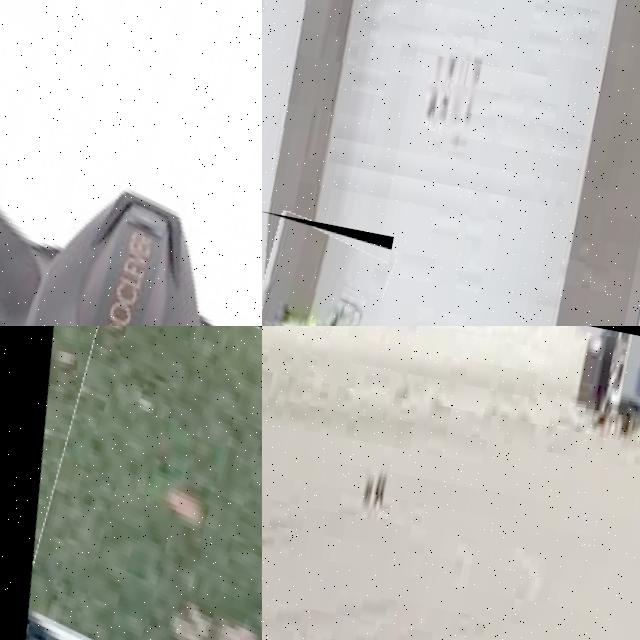drone: (0, 0, 262, 326), (0, 326, 262, 640), (262, 210, 394, 326)
